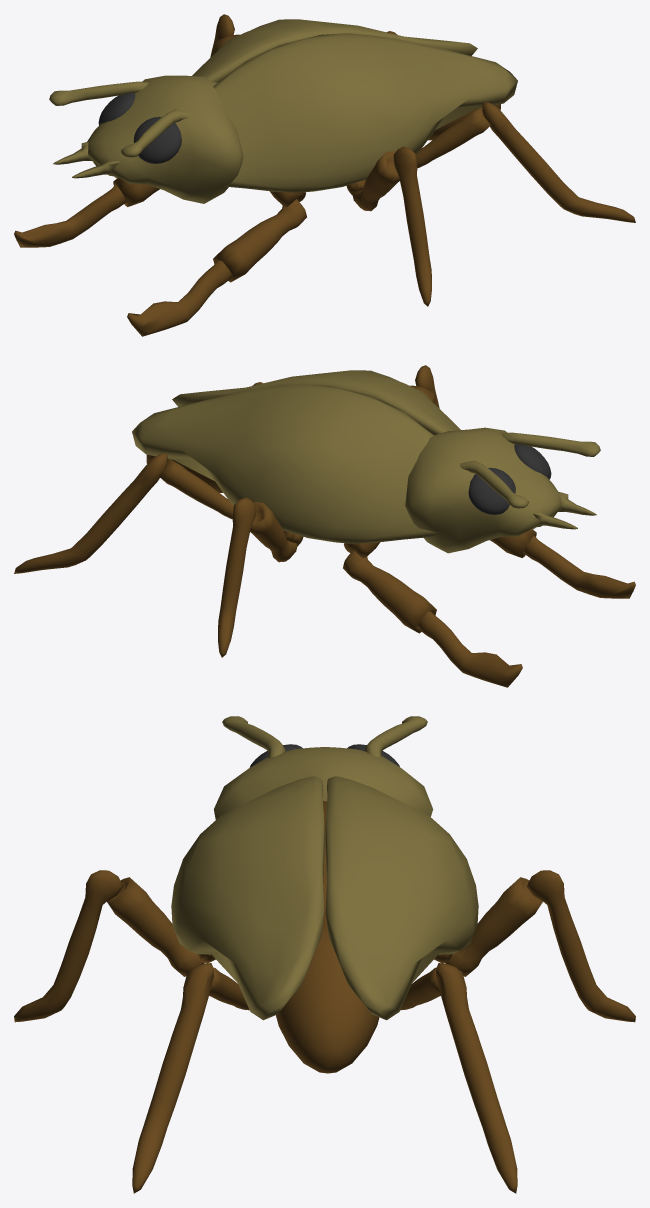
File: karaczan.fbx
The picture shows the model from 3 angles, top to bottom: view 1: azimuth 30°, elevation 25°; view 2: azimuth 150°, elevation 25°; view 3: azimuth 270°, elevation 25°; orthographic projection. The views are drawn at different scales.
Parts seen in each view (by area): view 1: Icosphere.061; view 2: Icosphere.061; view 3: Icosphere.061.
Boxes of the visible parts, left/top/right/bottom form: Icosphere.061: left=14, top=14, right=635, bottom=336; Icosphere.061: left=14, top=365, right=635, bottom=687; Icosphere.061: left=14, top=716, right=635, bottom=1193.
Bounding box in the file's own units: 605 × 238 × 533.
